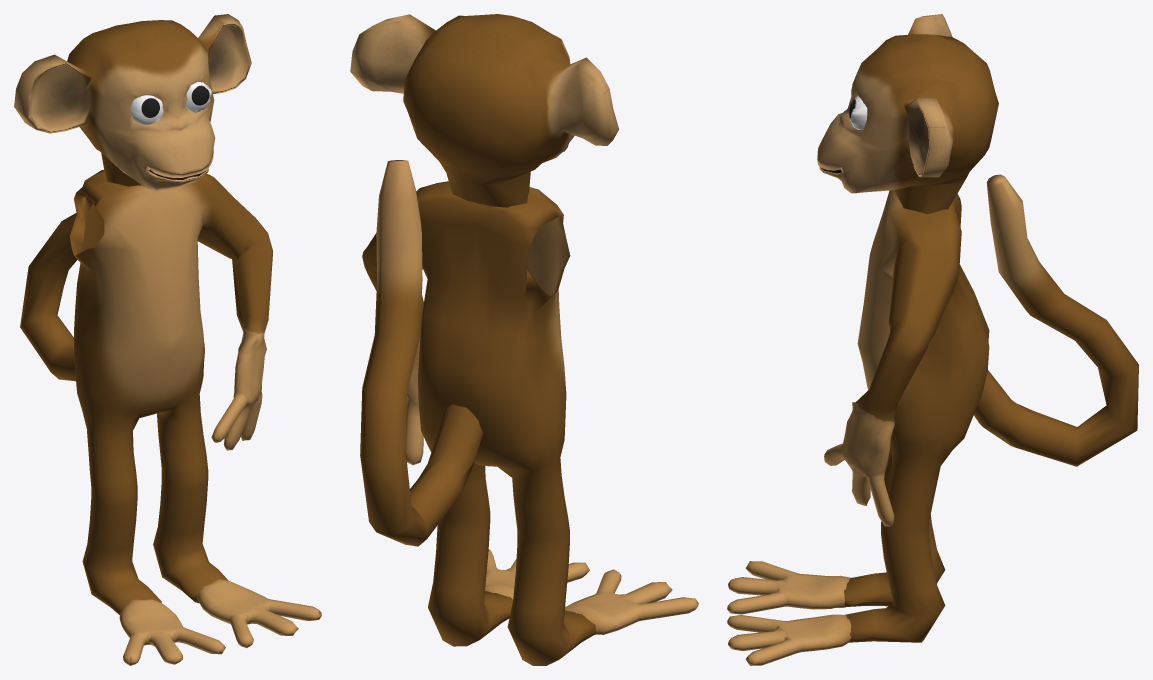
The model's file is Pose.fbx.
3 renders of one model, left to right at view 1: azimuth 30°, elevation 25°; view 2: azimuth 150°, elevation 25°; view 3: azimuth 270°, elevation 25°, orthographic. The views are drawn at different scales.
Parts seen in each view (by area): view 1: monkey; view 2: monkey; view 3: monkey.
Part boxes in pixels (box(x1,y1,x2,y2)): monkey: box(14, 14, 321, 665); monkey: box(350, 14, 698, 665); monkey: box(727, 14, 1138, 665).
Bounding box in the file's own units: 185 × 418 × 270.
